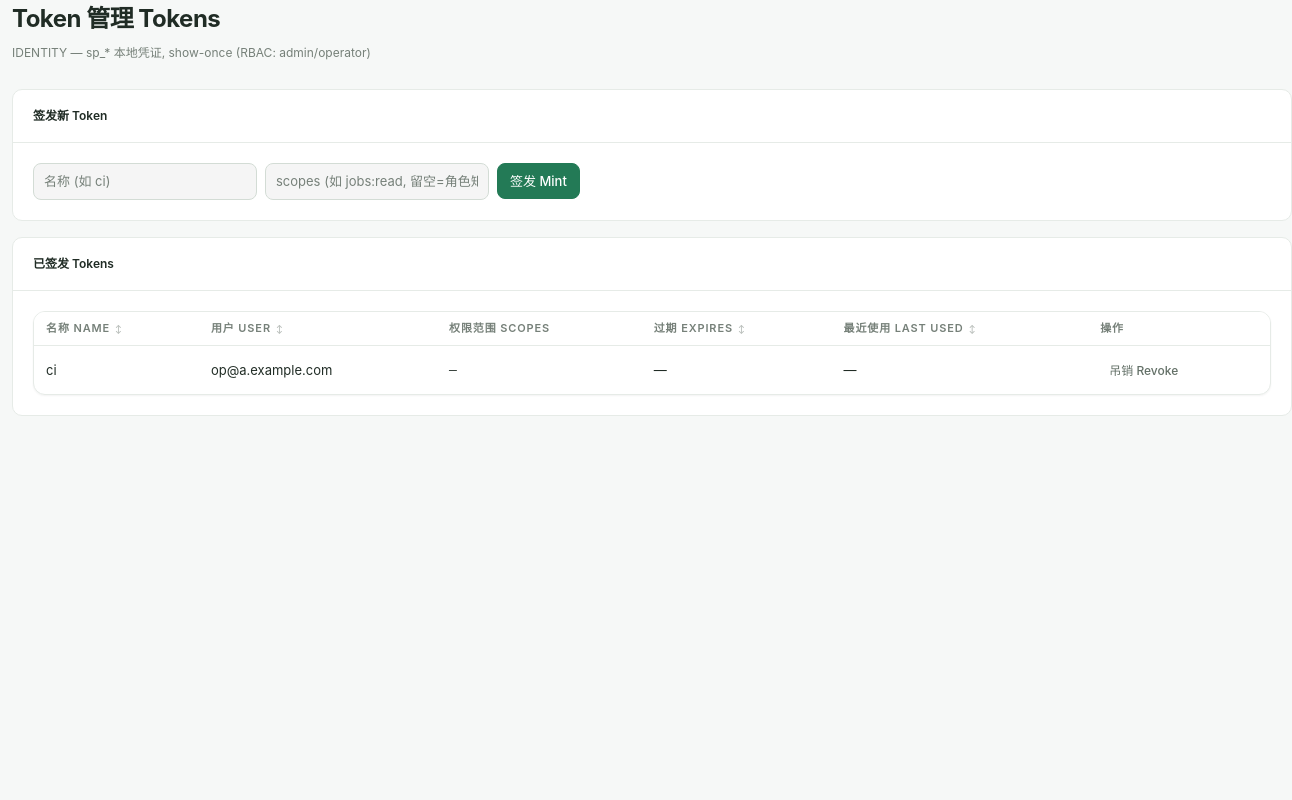
Test: TenantTokens › mints a token and reveals the show-once cleartext
expect the text "ci" is shown: met, box [34,346,199,394]
Click the button "签发 Mint".
click(538, 181)  # box [497,163,580,199]
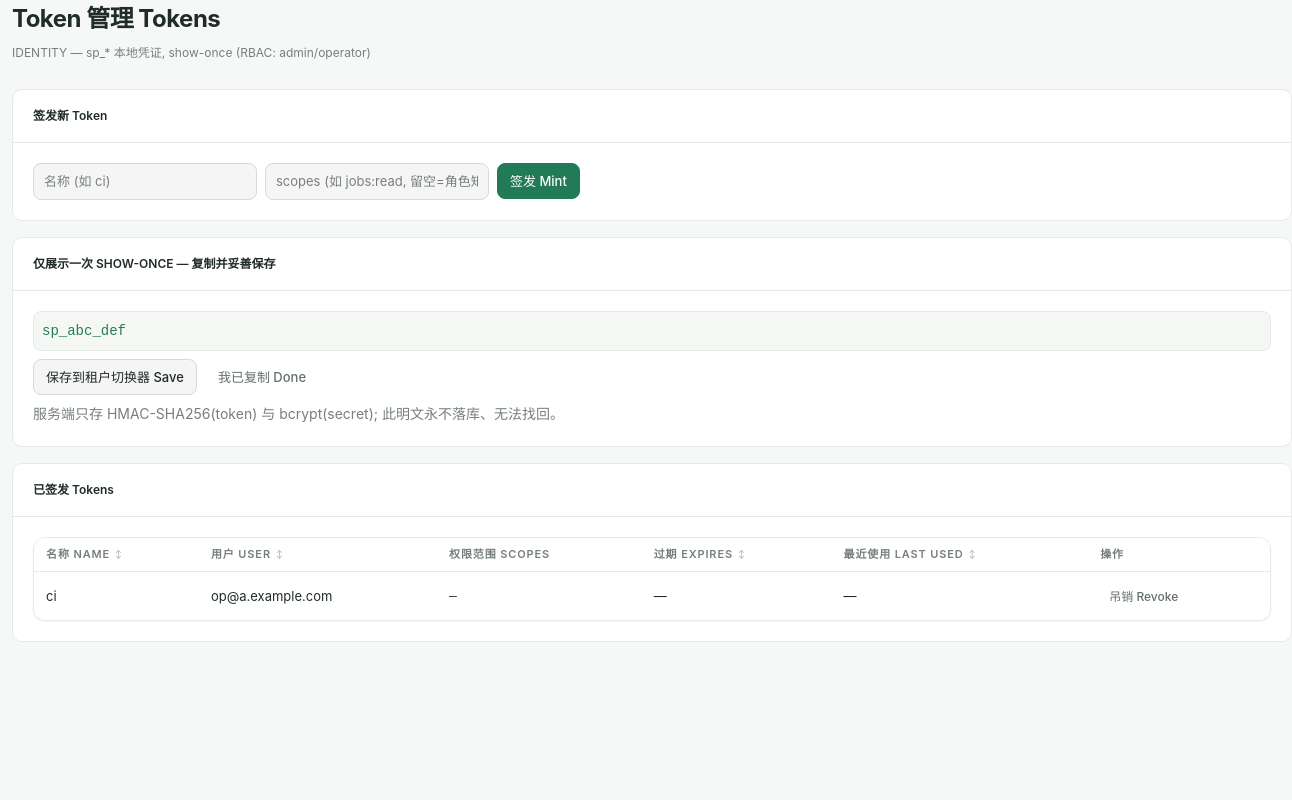
expect the text with test id "cleartext" shows "sp_": met, box [33,311,1271,351]
expect the text with test id "cleartext" shows "abc": met, box [42,323,126,339]
